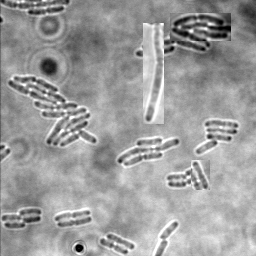Dividing: (143, 23, 164, 124), (99, 238, 128, 255), (54, 209, 90, 222), (56, 217, 92, 228), (27, 7, 64, 17), (167, 175, 190, 189)
Microcolony: (7, 76, 98, 147), (117, 137, 180, 168), (135, 32, 211, 57), (170, 13, 231, 41), (195, 120, 238, 155), (1, 208, 42, 229)
Rod: (191, 160, 210, 190), (106, 233, 135, 251), (157, 222, 178, 240), (166, 174, 187, 183)
